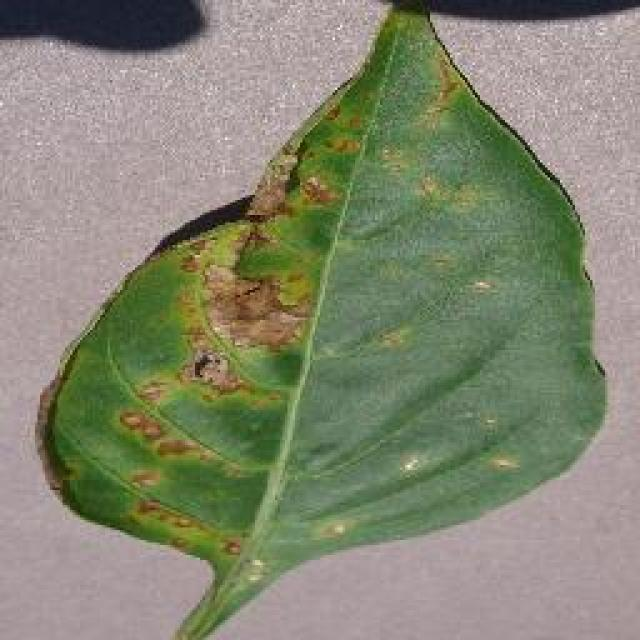Chilli_Bacterial_Spot: (32, 5, 613, 638), (38, 203, 320, 575), (198, 257, 310, 355), (240, 147, 302, 225), (185, 345, 240, 395), (115, 405, 165, 443), (295, 172, 337, 210), (150, 432, 195, 462), (313, 513, 355, 545), (132, 375, 170, 410), (482, 448, 522, 478), (125, 462, 163, 492), (213, 532, 245, 560), (115, 407, 145, 435), (465, 272, 497, 298)
